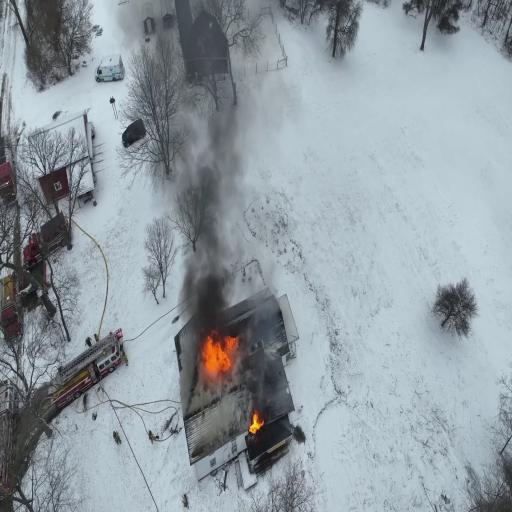fire: (202, 326, 236, 379), (249, 404, 261, 436)
